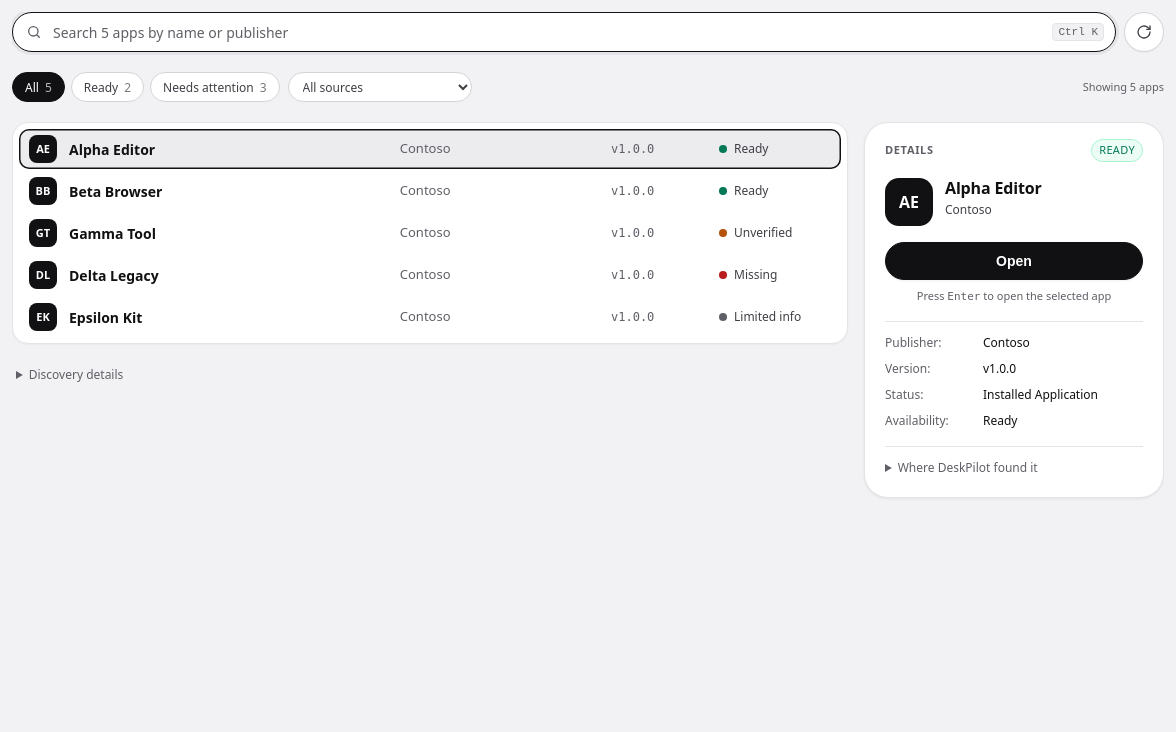
Test case: Apps view (Phase 2) › filters by status chips and shows counts on each chip
Expected: the button "Needs attention 3" is shown, [150,72,280,102]
Click the button "Ready 2". click: point(107, 87)
box: [71,72,144,102]
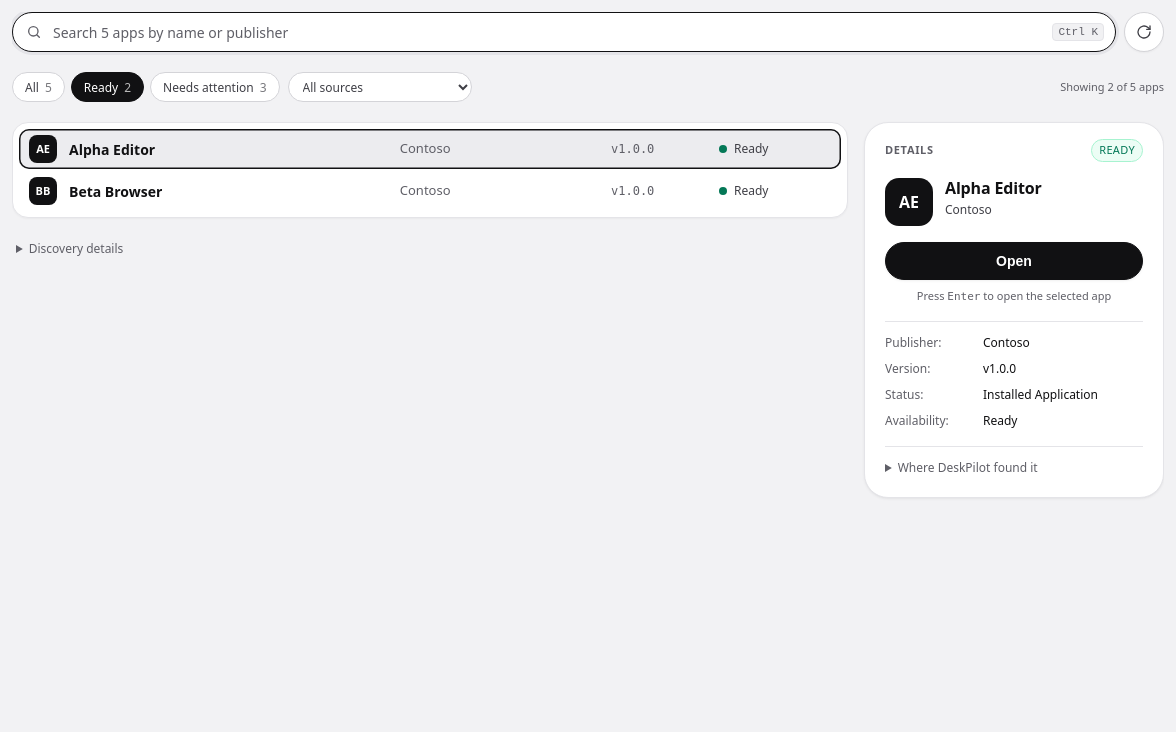
Expected: the text "Showing 2 of 5 apps" is shown, [1060,79,1164,95]
Click the button "Needs attention 3". click: point(215, 87)
box: [150,72,280,102]
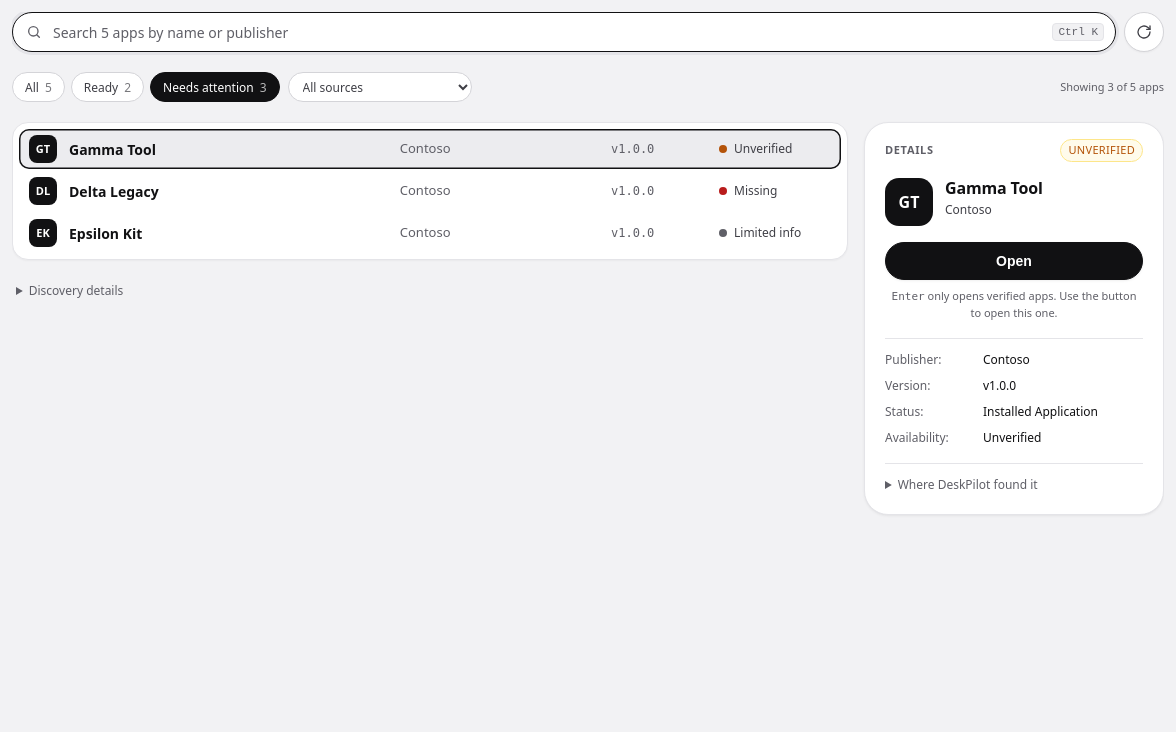
Expected: the number of options is 3, [19,129,841,169]; [19,171,841,211]; [19,213,841,253]
